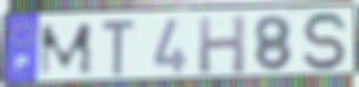4: (151, 16, 189, 77)
8: (251, 12, 295, 74)
H: (196, 13, 248, 76)
M: (37, 20, 96, 80)
S: (300, 10, 351, 73)
T: (99, 18, 139, 78)
